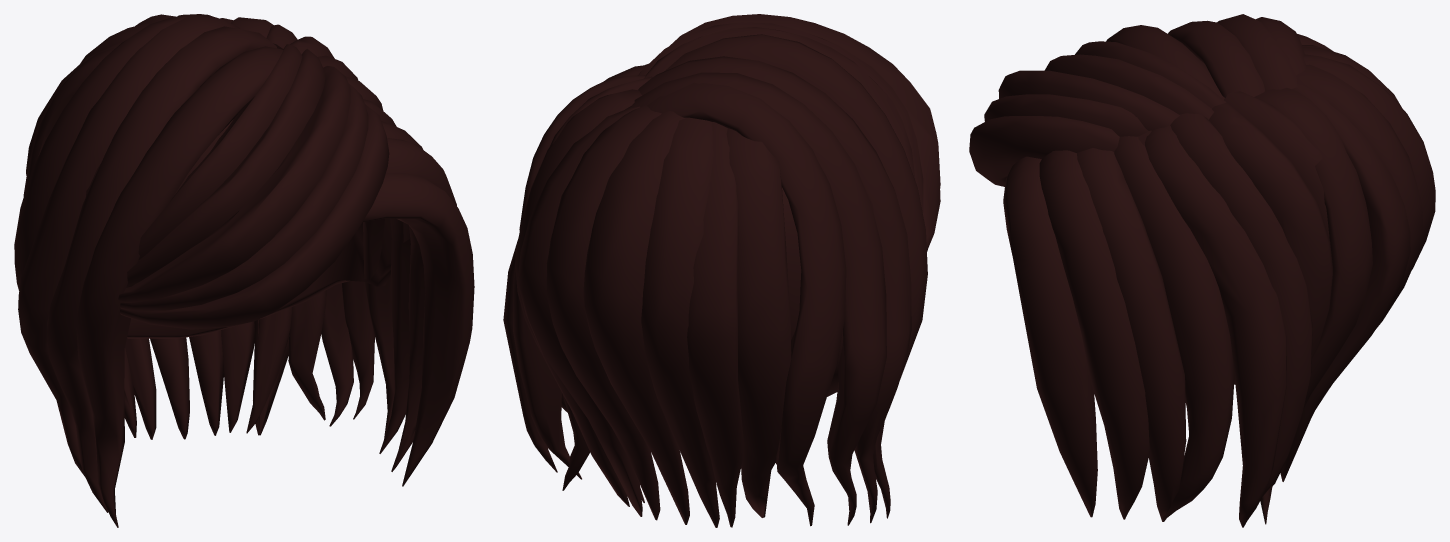
File: hair-2-4c51f7cd.glb
The picture shows the model from 3 angles, left to right: view 1: azimuth 30°, elevation 25°; view 2: azimuth 150°, elevation 25°; view 3: azimuth 270°, elevation 25°; orthographic projection. The views are drawn at different scales.
Parts seen in each view (by area): view 1: hair_2.001; view 2: hair_2.001; view 3: hair_2.001.
Boxes of the visible parts, bbox=[...] form: hair_2.001: bbox=[14, 14, 474, 527]; hair_2.001: bbox=[503, 14, 940, 527]; hair_2.001: bbox=[969, 14, 1435, 527].
Size of the model in its own units: 2.05 by 2.36 by 2.32.
